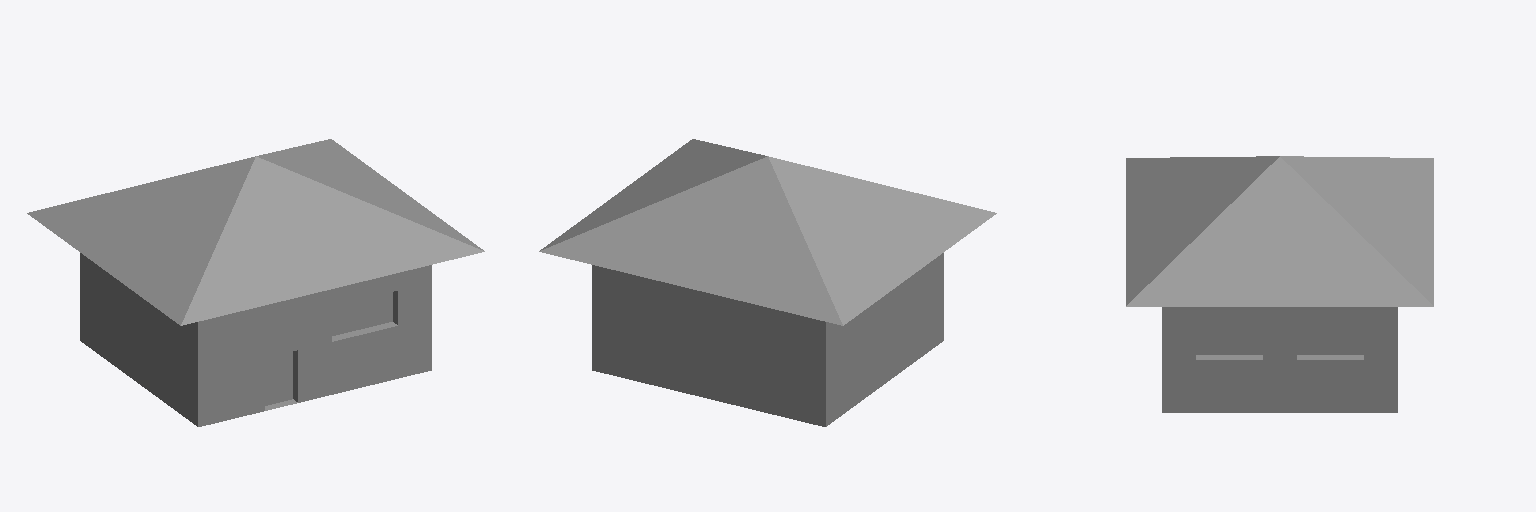
The model's file is house2.obj.
3 views of the same model, side by side, from view 1: azimuth 30°, elevation 25°; view 2: azimuth 150°, elevation 25°; view 3: azimuth 270°, elevation 25° (orthographic).
Visible parts, largest first — view 1: Cube; view 2: Cube; view 3: Cube.
Part boxes in pixels (x1,y1,x2,y2): Cube: (27,139,484,426); Cube: (539,139,996,426); Cube: (1126,156,1433,412).
Size of the model in its own units: 75.48 by 47.22 by 66.2.